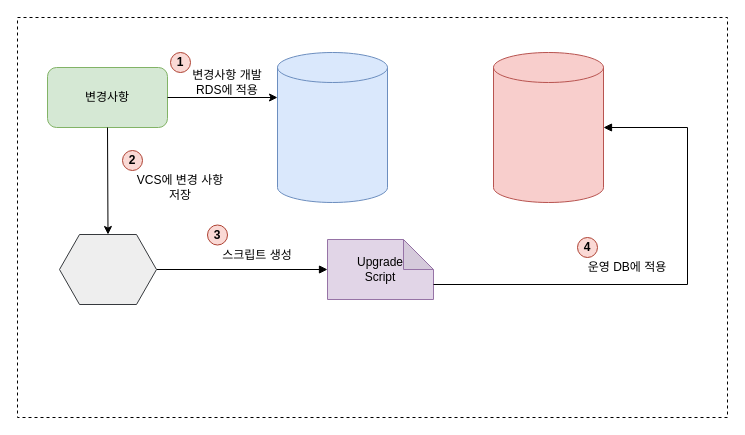
This 745x435 diagram has some shape labels left out. The centre of each missing label's shape, as x and y in pixels:
Dev (Model) Databse: the point at 332,127
Prd (Production) Databse: the point at 548,127
VCS: the point at 107,269
